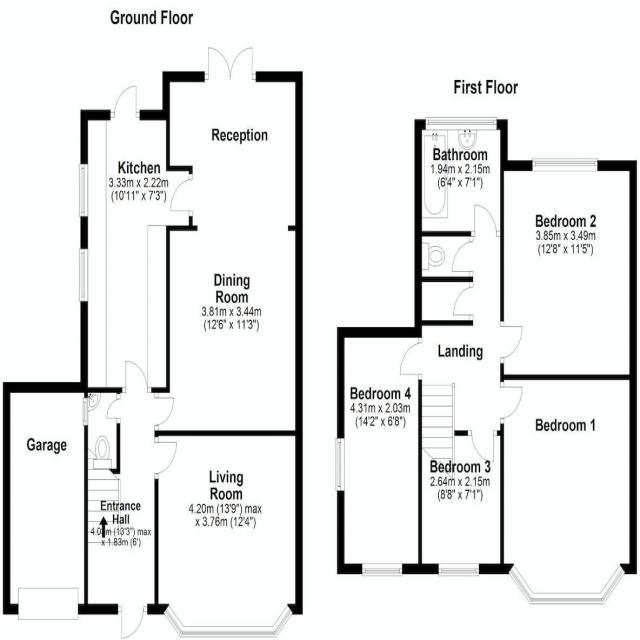DOOR: (110, 85, 140, 121), (169, 173, 193, 218), (399, 336, 422, 381), (500, 320, 523, 365), (467, 430, 498, 463), (470, 204, 501, 237), (121, 360, 152, 393), (118, 605, 148, 639), (500, 381, 523, 425), (154, 436, 177, 480), (451, 236, 473, 277), (154, 392, 175, 432), (106, 393, 121, 424)
DOUBLE DOOR: (206, 44, 254, 81)
ROOM: (154, 46, 303, 436), (78, 85, 193, 393), (500, 375, 637, 605), (154, 430, 303, 639), (500, 158, 637, 380), (335, 327, 422, 577), (418, 430, 504, 577)
WINDOW: (508, 562, 627, 606), (163, 603, 294, 639), (425, 116, 497, 131), (531, 158, 598, 172), (361, 562, 403, 577), (438, 562, 480, 577), (335, 437, 345, 493), (78, 163, 88, 217), (78, 248, 88, 302), (82, 397, 88, 426)
